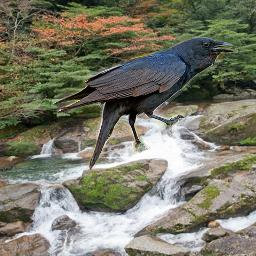Crow: (51, 37, 235, 171)
